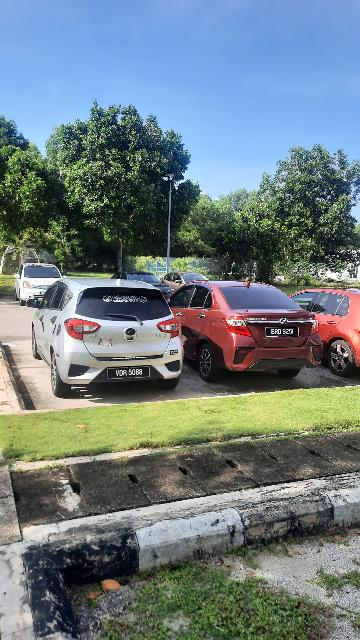License_Plate: (107, 365, 155, 381), (265, 327, 303, 340)
car: (33, 280, 185, 399), (184, 279, 328, 382)
